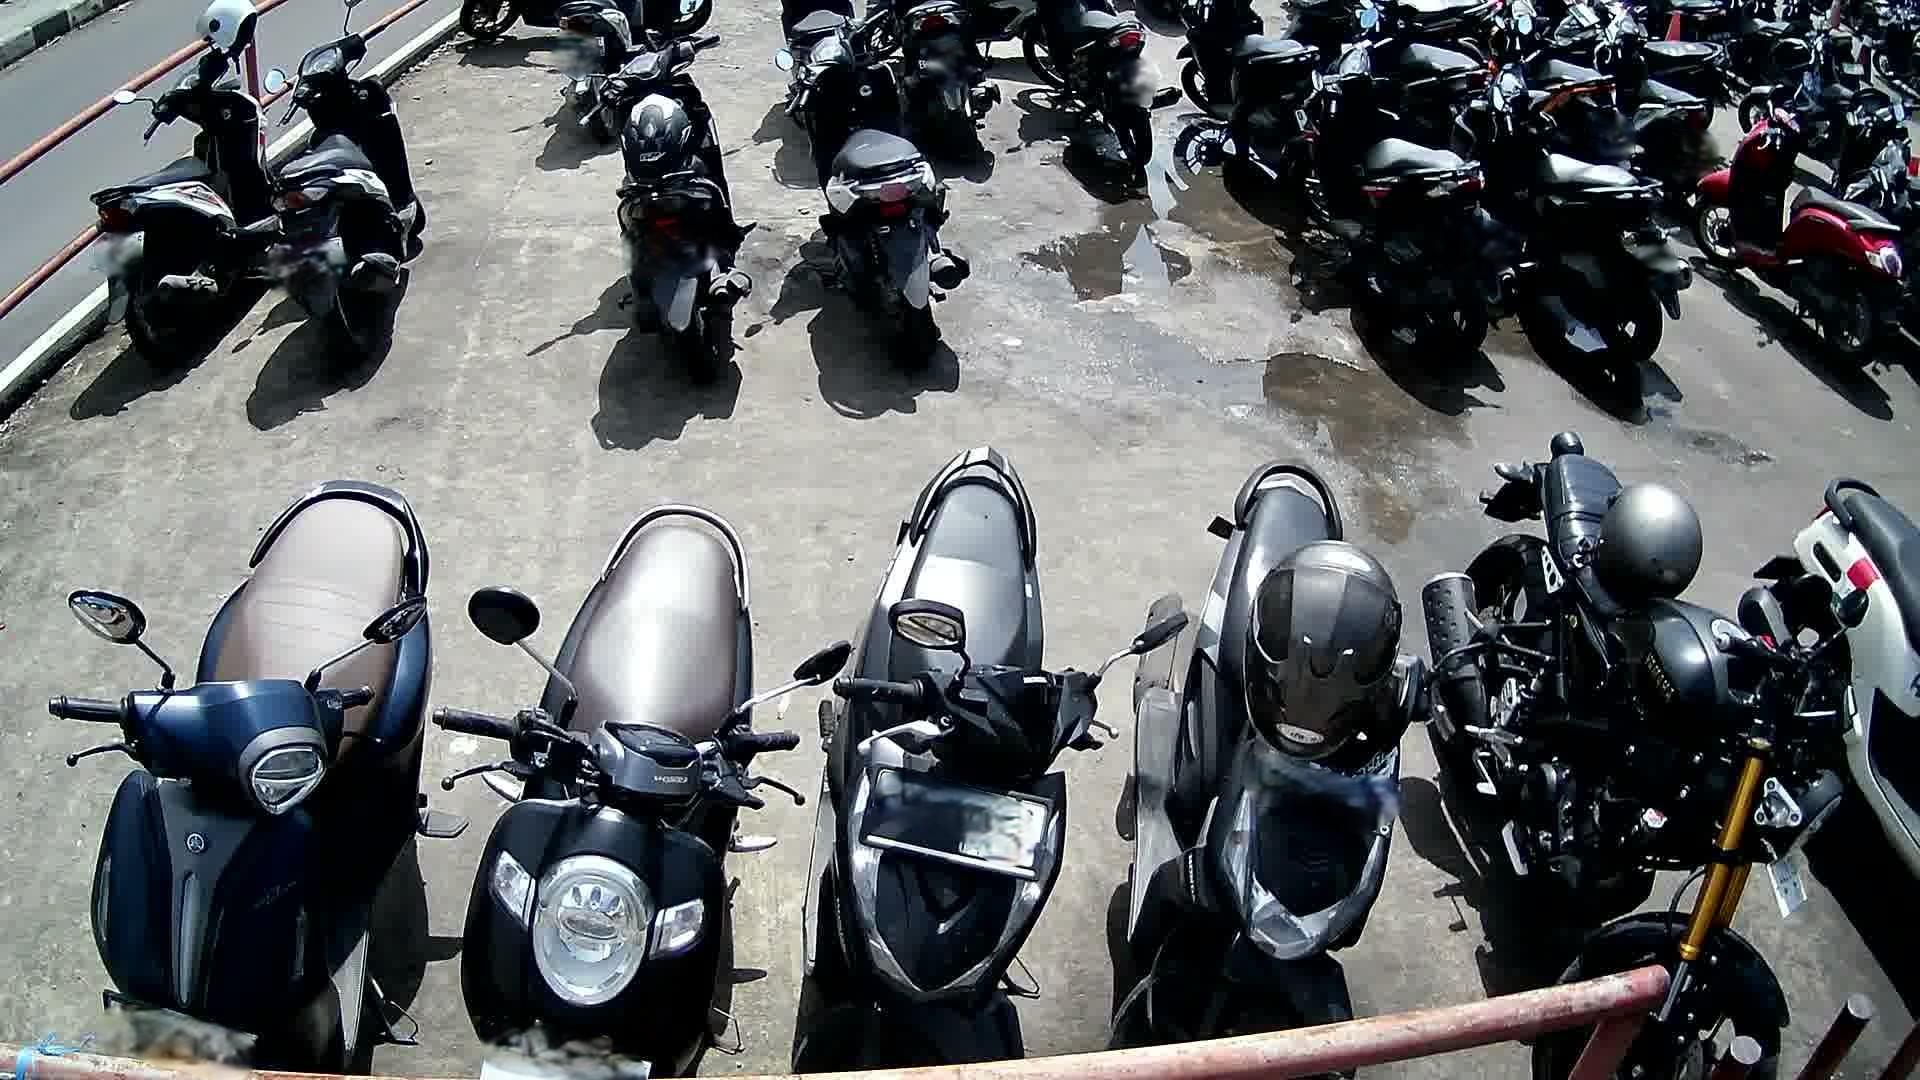motorcycle: (1420, 430, 1846, 1080), (50, 479, 463, 1073), (431, 504, 845, 1080), (799, 447, 1163, 1080), (1110, 456, 1443, 1080), (1280, 5, 1516, 378), (1449, 13, 1692, 373), (1735, 473, 1920, 884), (774, 7, 969, 372), (571, 36, 760, 390), (90, 37, 280, 371), (262, 0, 425, 367), (1696, 94, 1907, 373)
